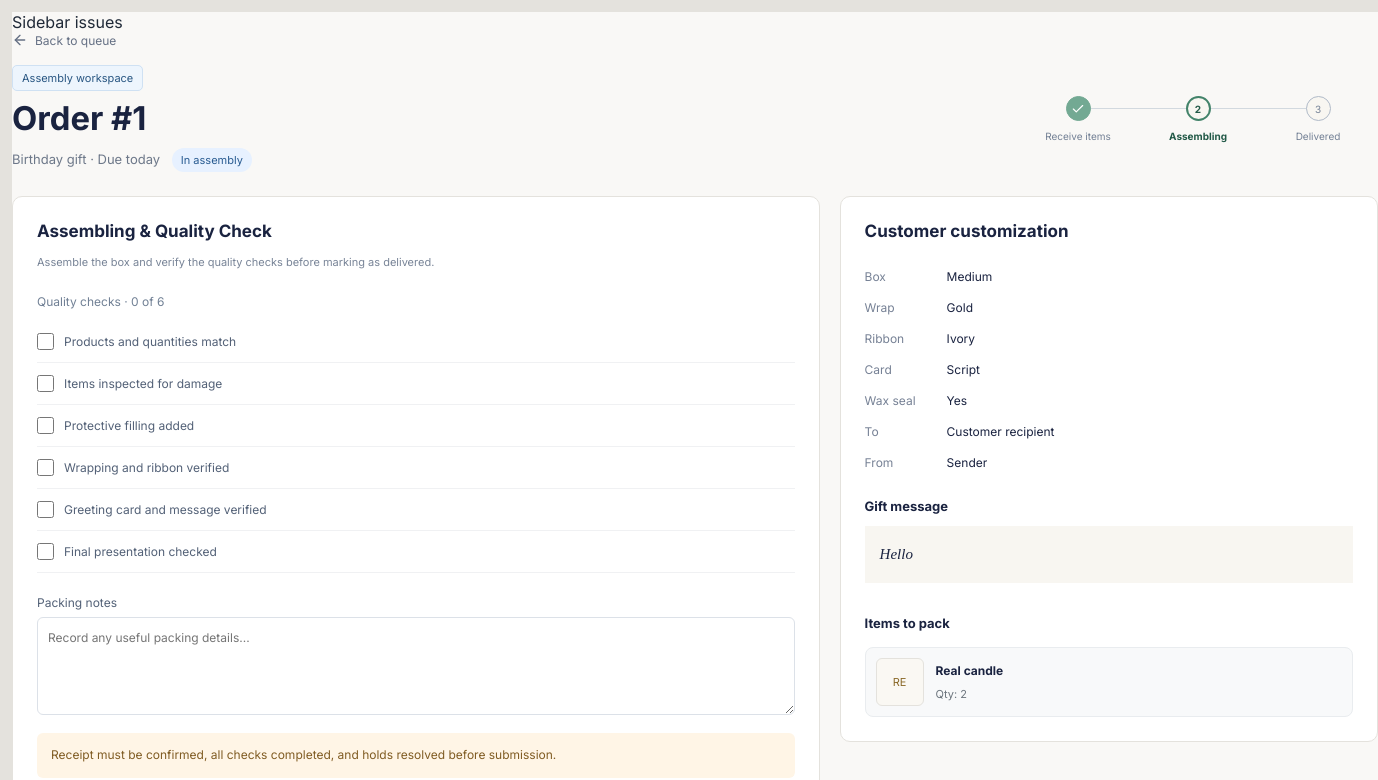
Test: submission is disabled until all checks are complete
The width and height of the screenshot is (1378, 780).
Click the checkbox labelled "Products and quantities match".
click(46, 341)  # box [37,333,54,350]
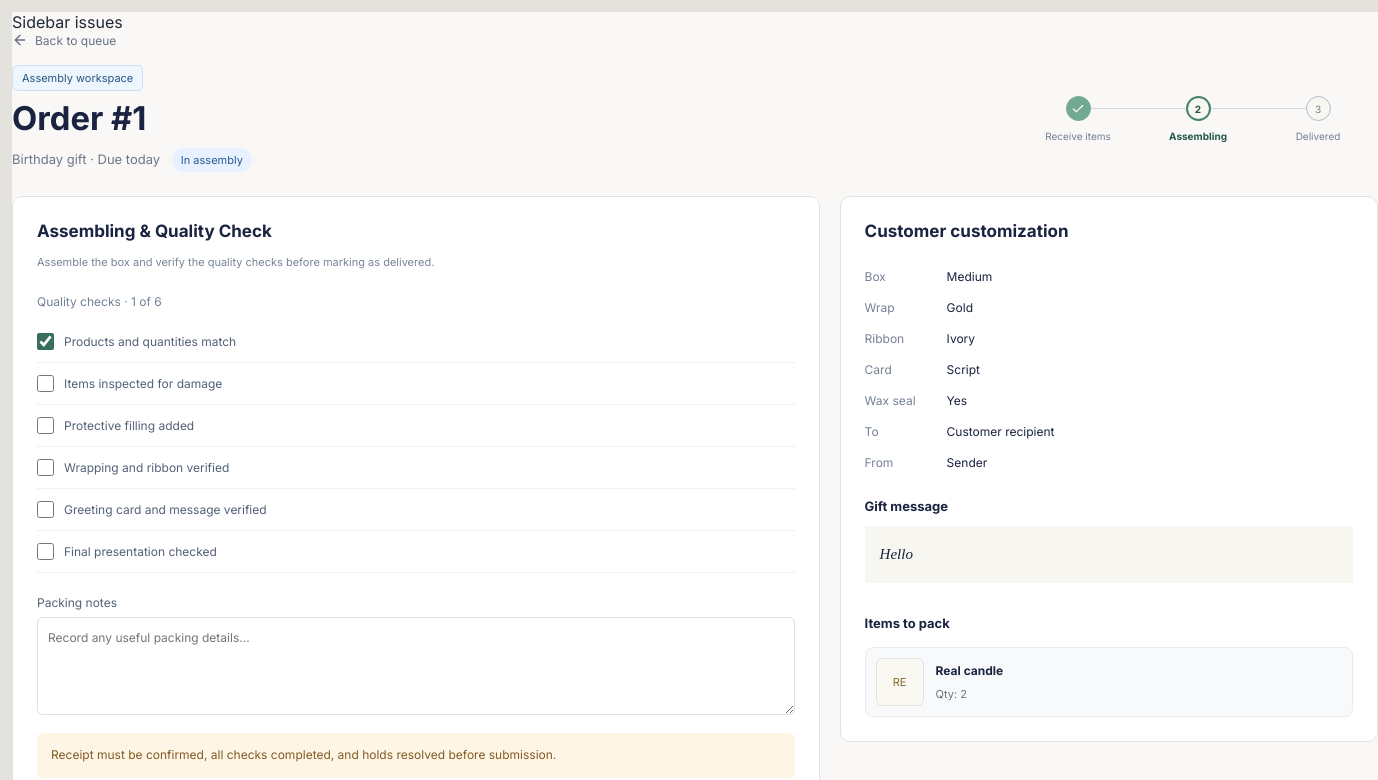
Click the checkbox labelled "Items inspected for damage".
click(46, 383)  # box [37,375,54,392]
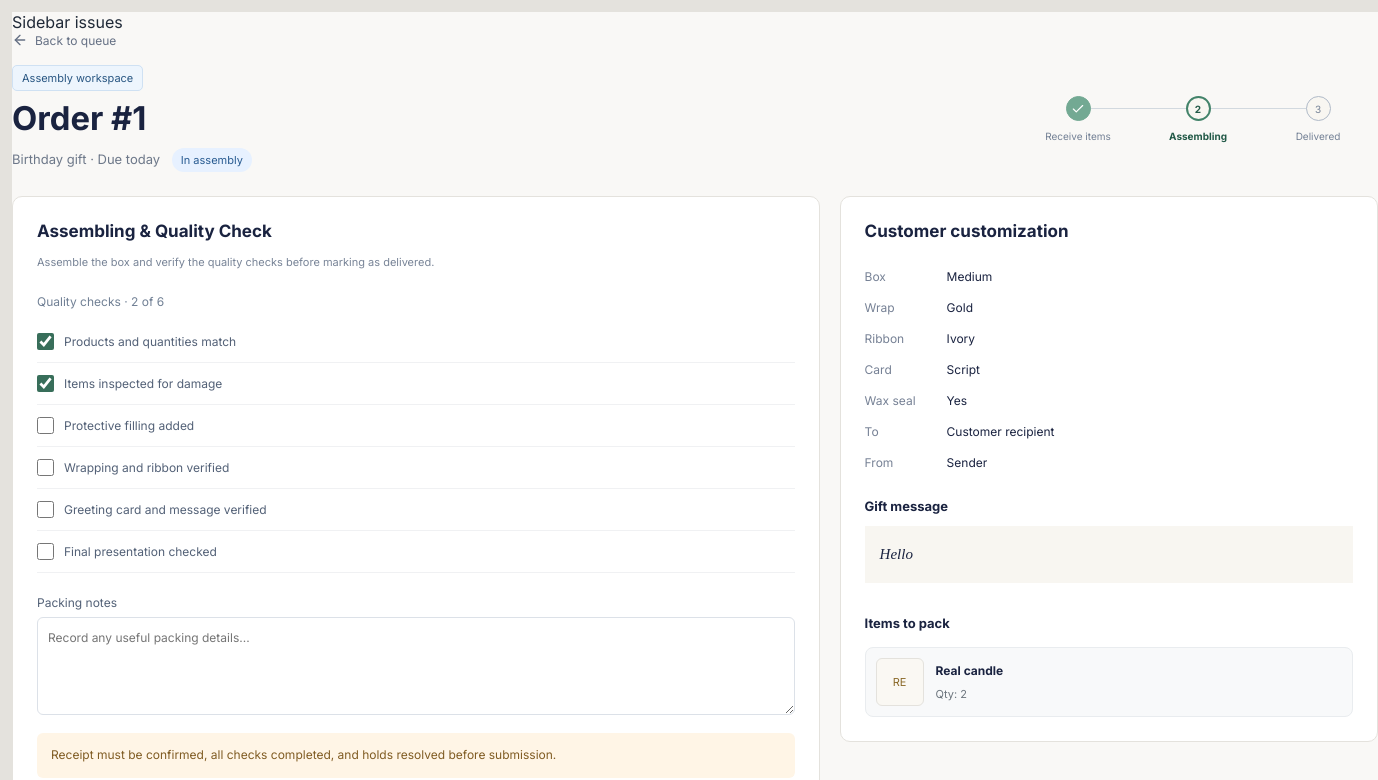
Click the checkbox labelled "Protective filling added".
click(46, 425)  # box [37,417,54,434]
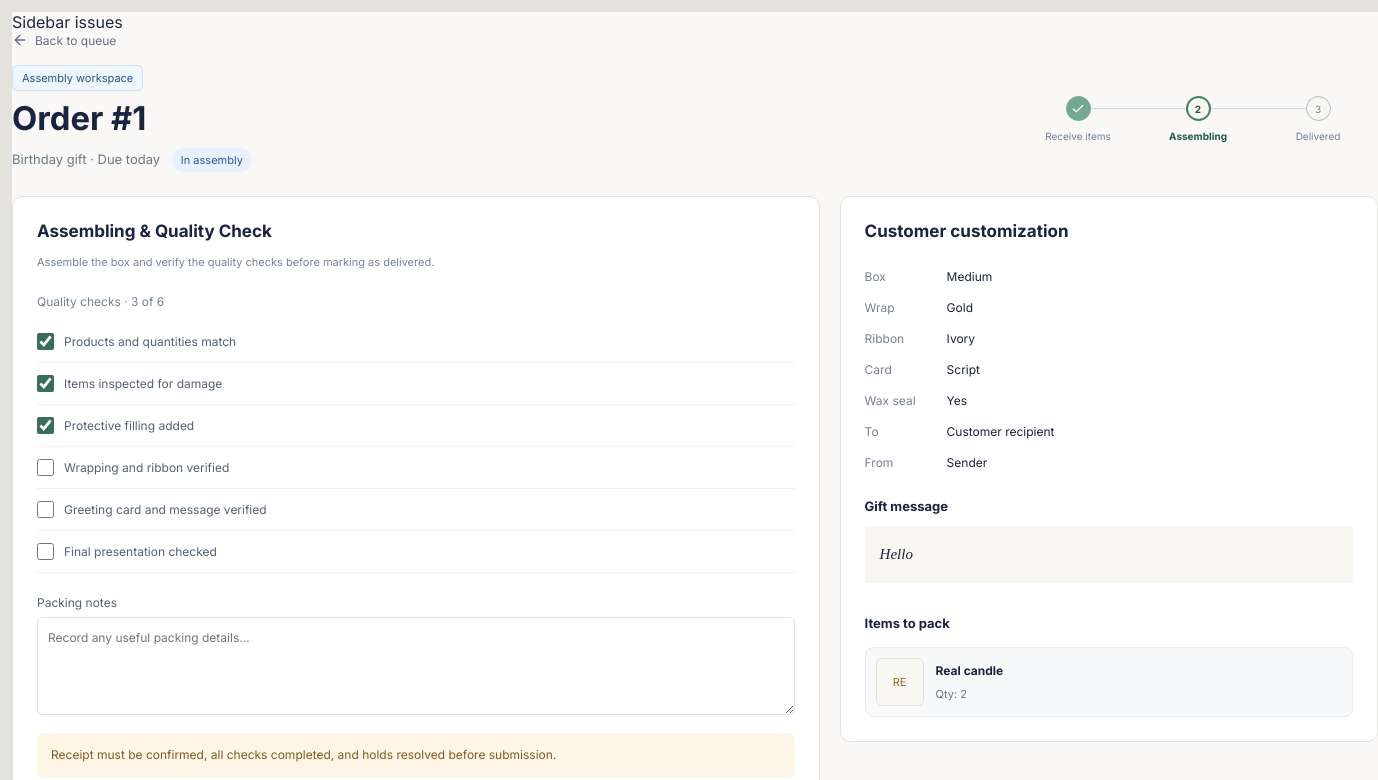
Click the checkbox labelled "Wrapping and ribbon verified".
click(46, 467)  # box [37,459,54,476]
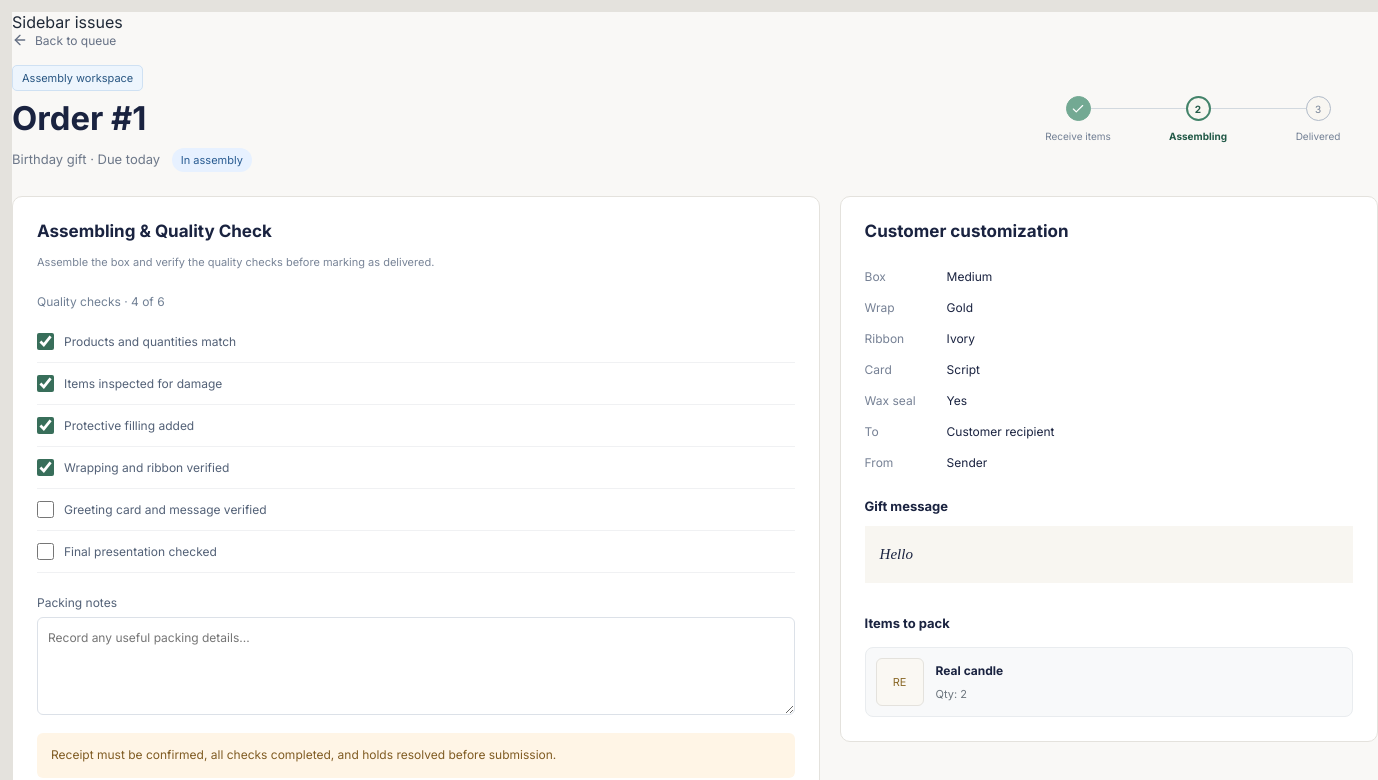
Click the checkbox labelled "Greeting card and message verified".
click(46, 509)  # box [37,501,54,518]
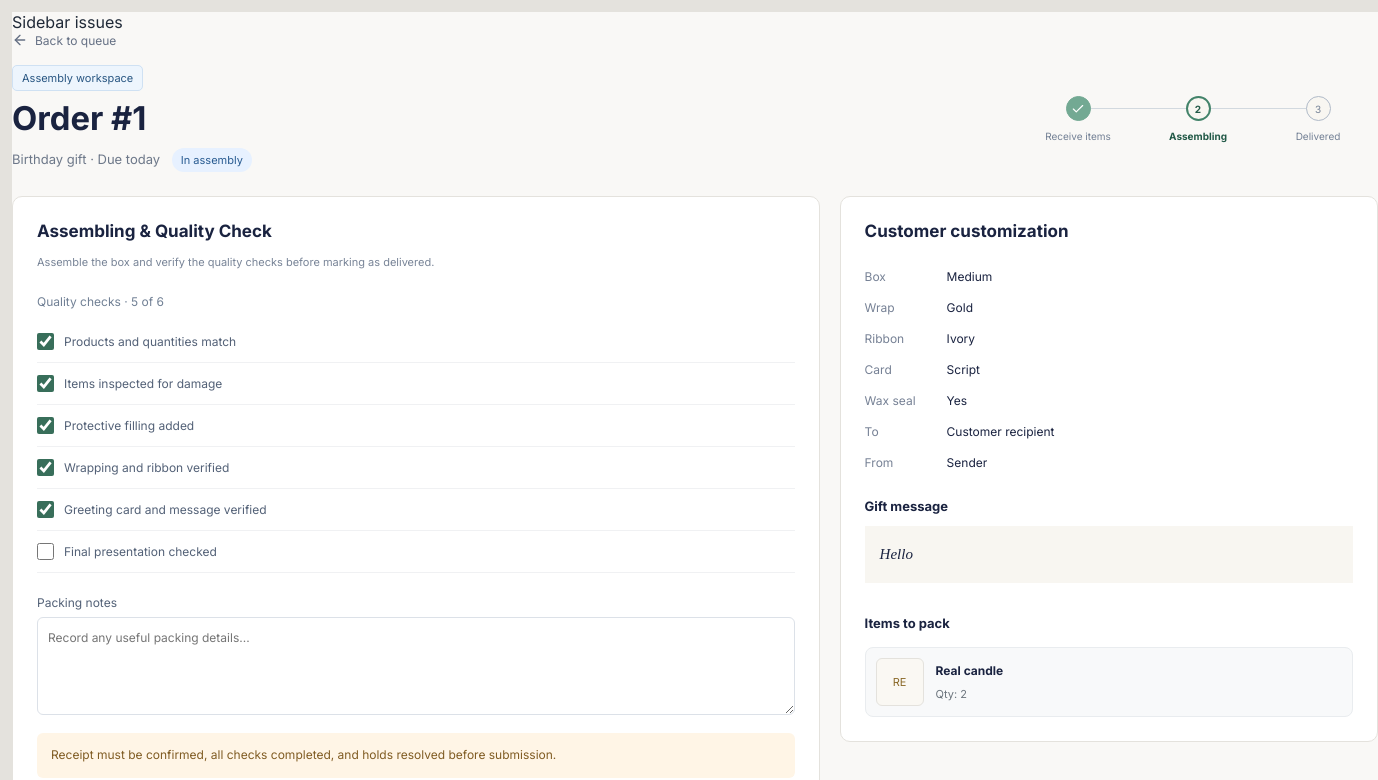
Click the checkbox labelled "Final presentation checked".
click(46, 551)  # box [37,543,54,560]
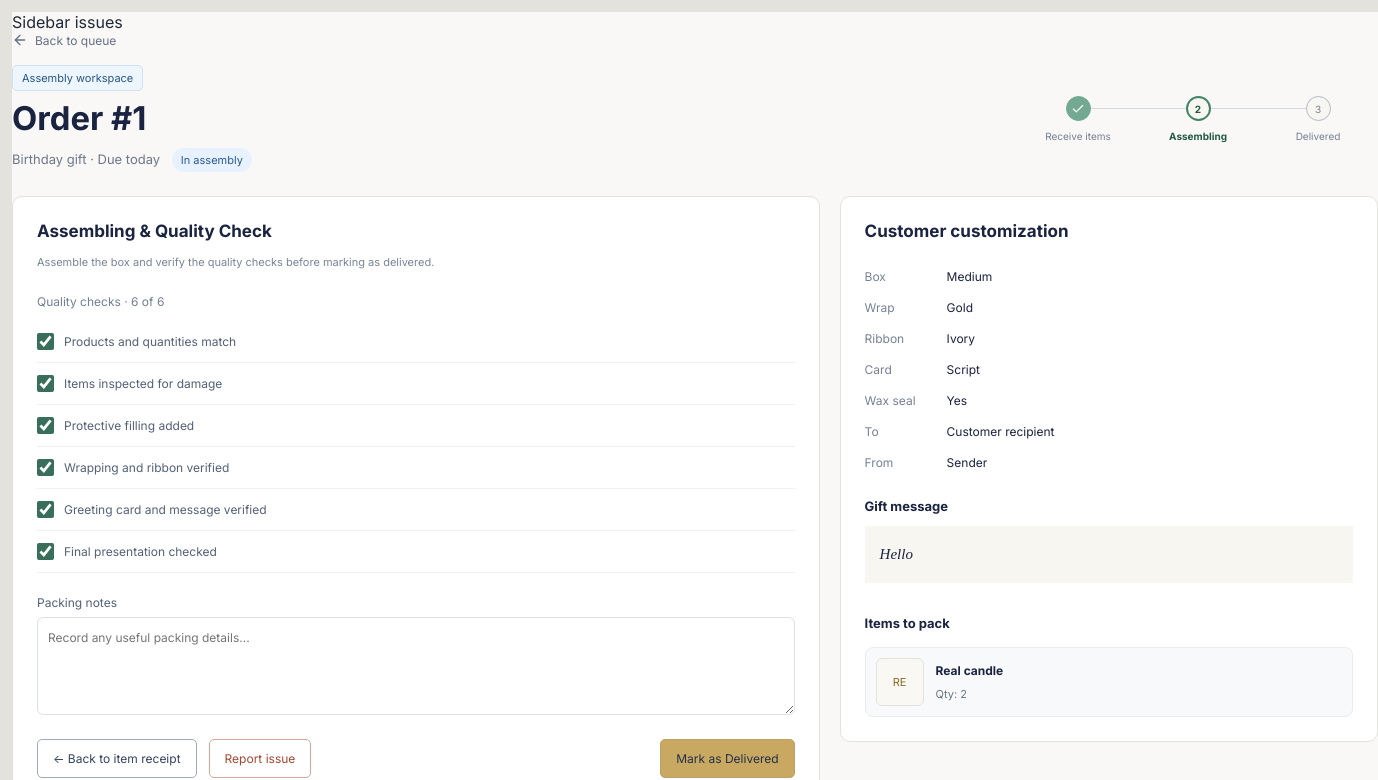
Expected: the button "Mark as Delivered" is enabled, [660,739,795,778]
